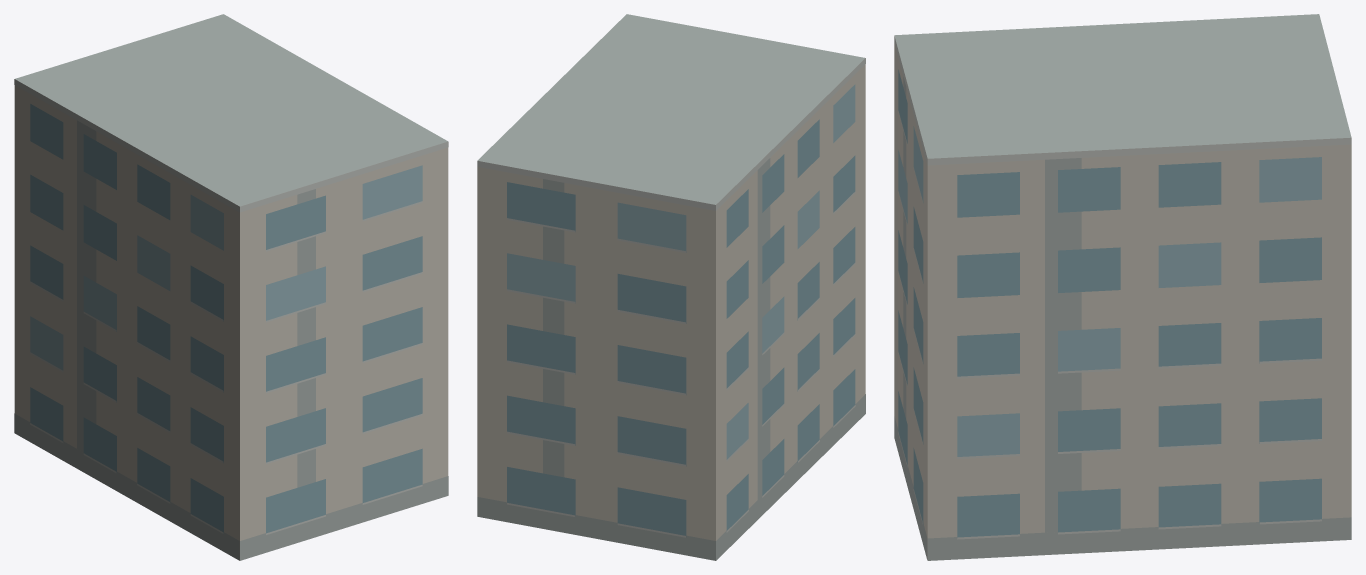
The model's file is survey-upis-32886864.glb.
3 renders of one model, left to right at view 1: azimuth 30°, elevation 25°; view 2: azimuth 150°, elevation 25°; view 3: azimuth 270°, elevation 25°, orthographic. The views are drawn at different scales.
Parts seen in each view (by area): view 1: survey-upis-32886864.tmp; view 2: survey-upis-32886864.tmp; view 3: survey-upis-32886864.tmp.
Part boxes in pixels (x1=…): survey-upis-32886864.tmp: x1=14, y1=14, x2=448, y2=560; survey-upis-32886864.tmp: x1=477, y1=14, x2=865, y2=560; survey-upis-32886864.tmp: x1=894, y1=14, x2=1351, y2=560.
Bounding box in the file's own units: 11.21 × 14.5 × 14.96.
